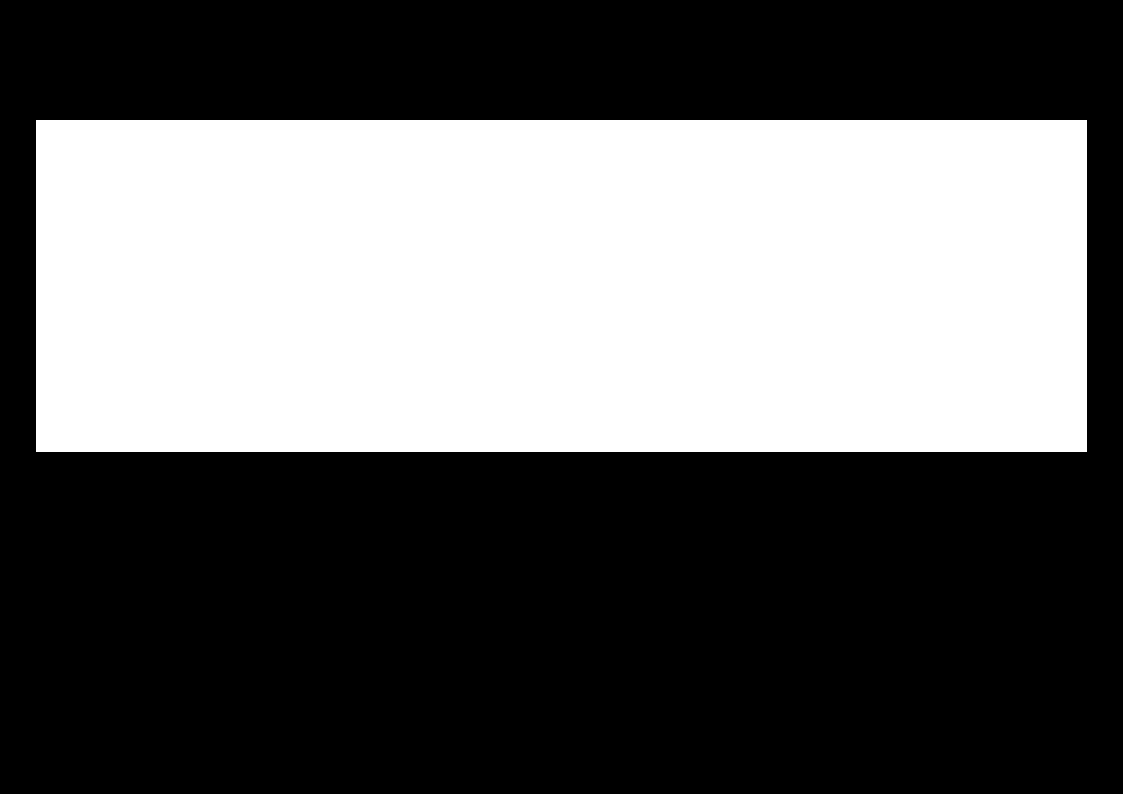table: (36, 120, 1086, 451)
